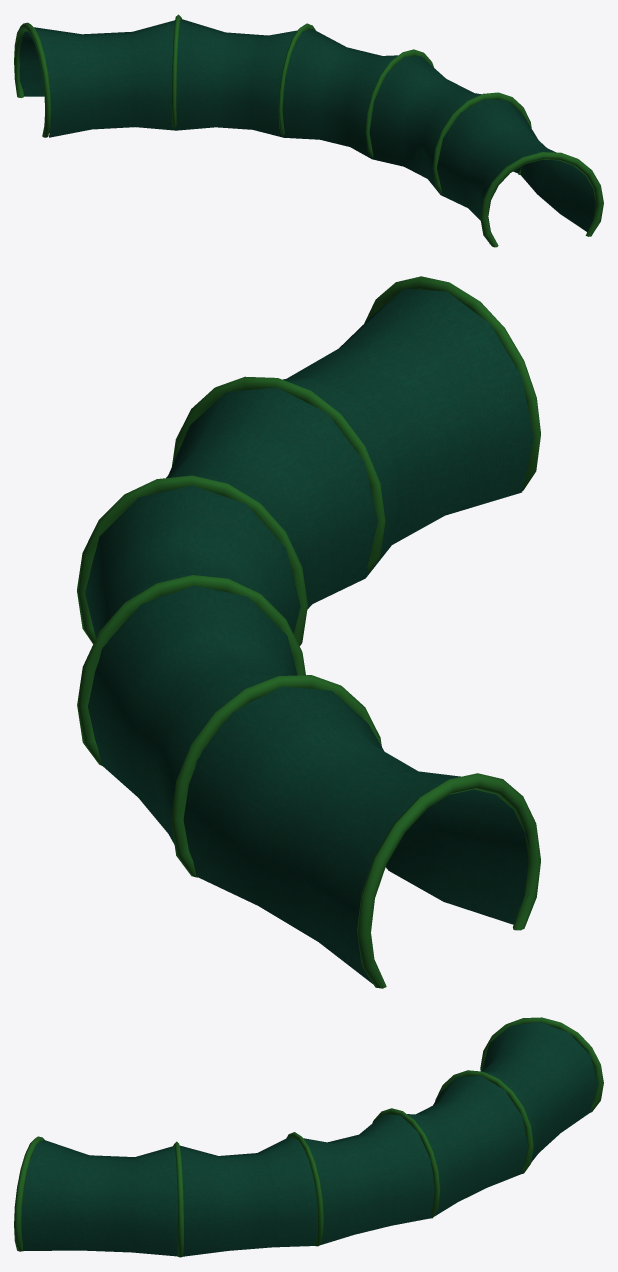
Rendered from M_Dogguandao02.FBX.
The picture shows the model from 3 angles, top to bottom: view 1: azimuth 30°, elevation 25°; view 2: azimuth 150°, elevation 25°; view 3: azimuth 270°, elevation 25°; orthographic projection. The views are drawn at different scales.
Parts seen in each view (by area): view 1: M_Dogguandao02_02, M_Dogguandao02_01; view 2: M_Dogguandao02_02, M_Dogguandao02_01; view 3: M_Dogguandao02_02, M_Dogguandao02_01.
Part boxes in pixels (bbox=[...]): M_Dogguandao02_02: bbox=[19, 19, 595, 243]; M_Dogguandao02_01: bbox=[14, 14, 603, 247]; M_Dogguandao02_02: bbox=[85, 288, 533, 983]; M_Dogguandao02_01: bbox=[77, 276, 540, 988]; M_Dogguandao02_02: bbox=[21, 1022, 597, 1256]; M_Dogguandao02_01: bbox=[14, 1017, 603, 1257].
Bounding box in the file's own units: 3.29 × 0.8568 × 4.99.
